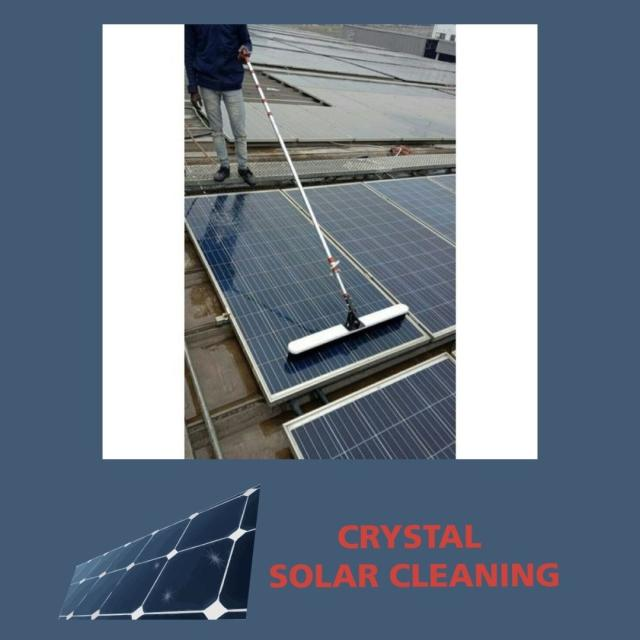dust-solar-panel: (199, 75, 456, 147)
